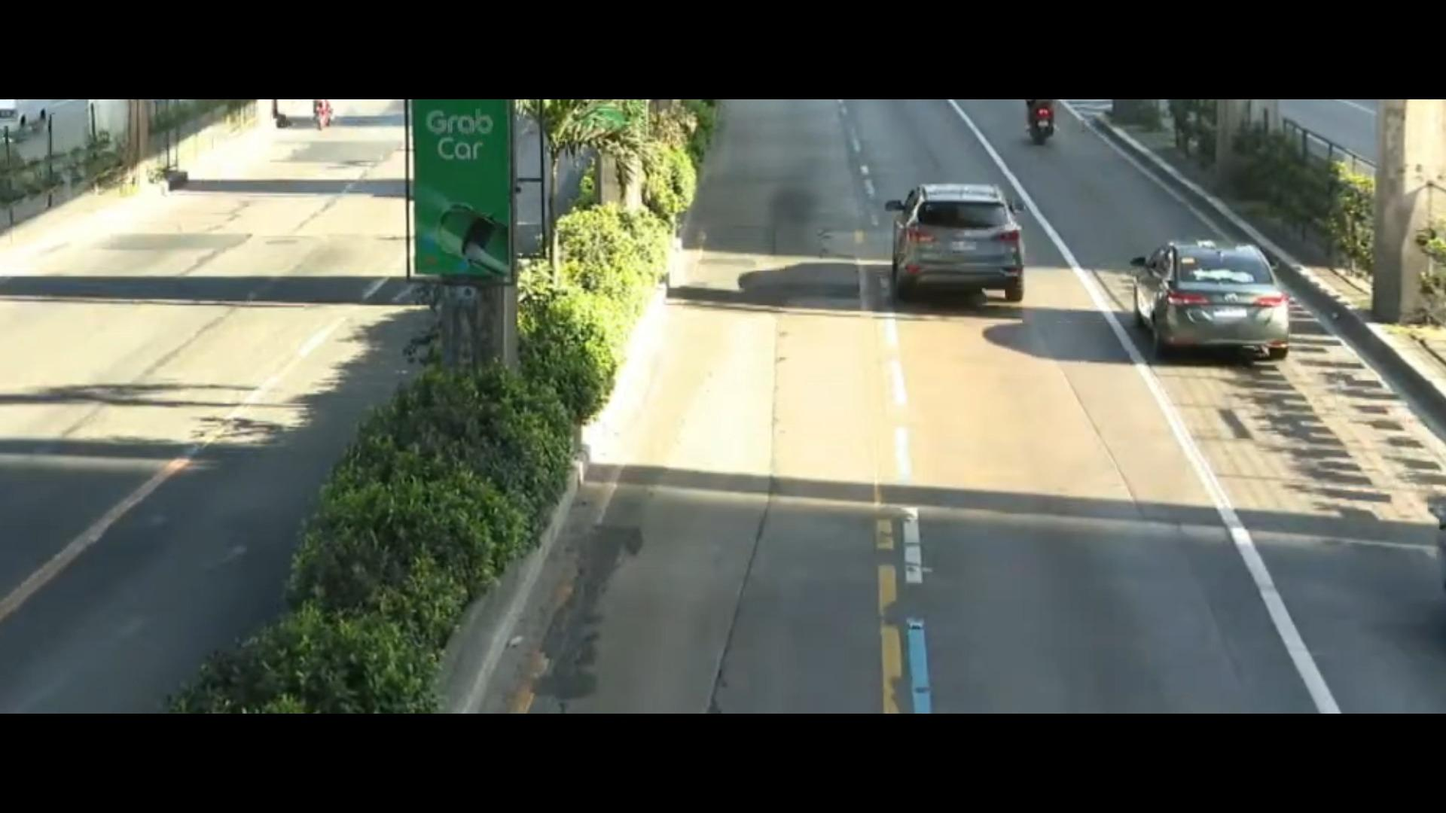Motorcycle: (1021, 99, 1062, 145)
SUV: (864, 170, 1049, 310)
Sedan: (1095, 217, 1316, 377)
